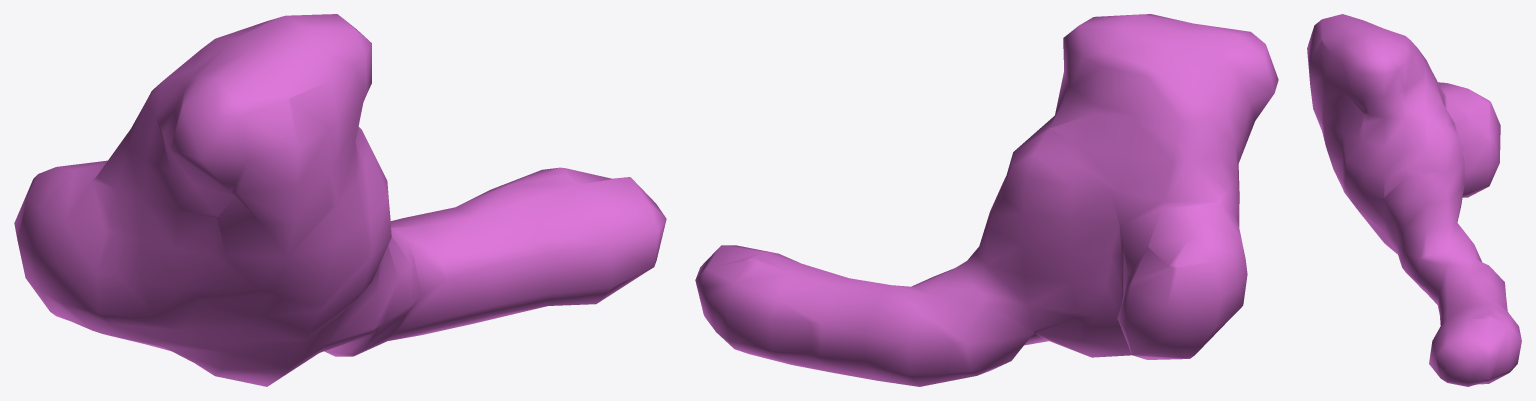
File: Vesicle_99AAligned16.fbx
3 renders of one model, left to right at view 1: azimuth 30°, elevation 25°; view 2: azimuth 150°, elevation 25°; view 3: azimuth 270°, elevation 25°, orthographic. The views are drawn at different scales.
Parts seen in each view (by area): view 1: vesicle_MeshVes99Mesh; view 2: vesicle_MeshVes99Mesh; view 3: vesicle_MeshVes99Mesh.
Boxes of the visible parts, left/top/right/bottom form: vesicle_MeshVes99Mesh: left=14, top=14, right=666, bottom=386; vesicle_MeshVes99Mesh: left=695, top=14, right=1278, bottom=386; vesicle_MeshVes99Mesh: left=1307, top=14, right=1521, bottom=386.
Bounding box in the file's own units: 73.36 × 46.77 × 36.98.
